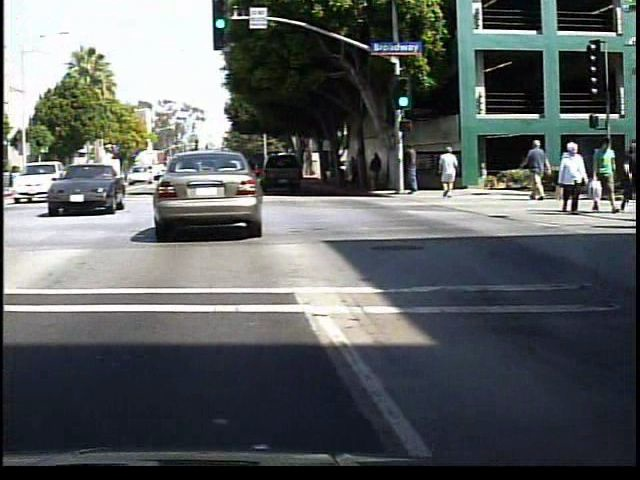person: (593, 138, 623, 217), (561, 140, 592, 215), (525, 139, 557, 202), (439, 143, 464, 200), (406, 140, 426, 200), (372, 148, 390, 192), (352, 153, 366, 189)
